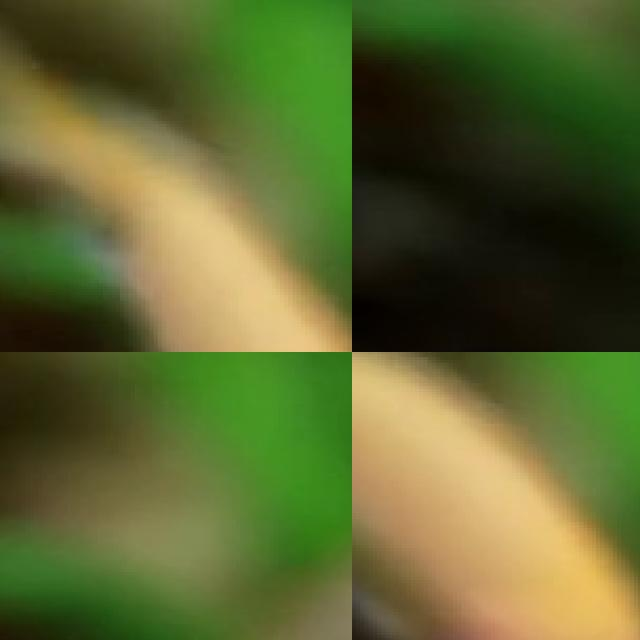fish: (0, 0, 352, 352), (0, 352, 126, 640)
